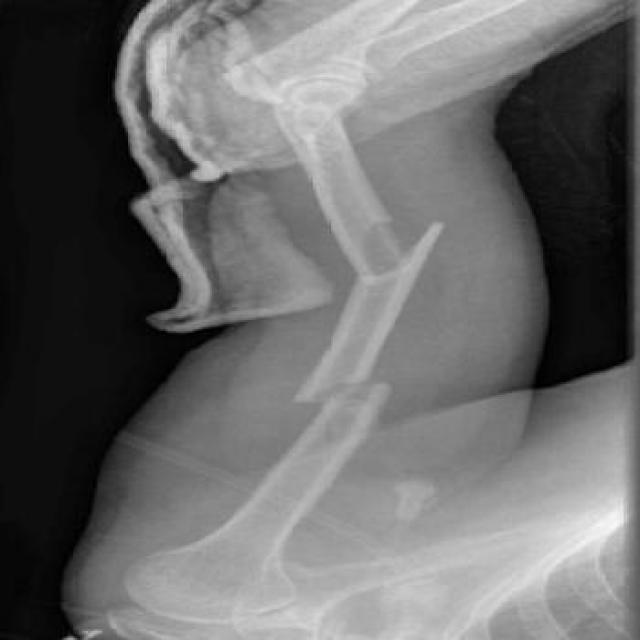fracture: (326, 207, 482, 296), (285, 361, 410, 420)
